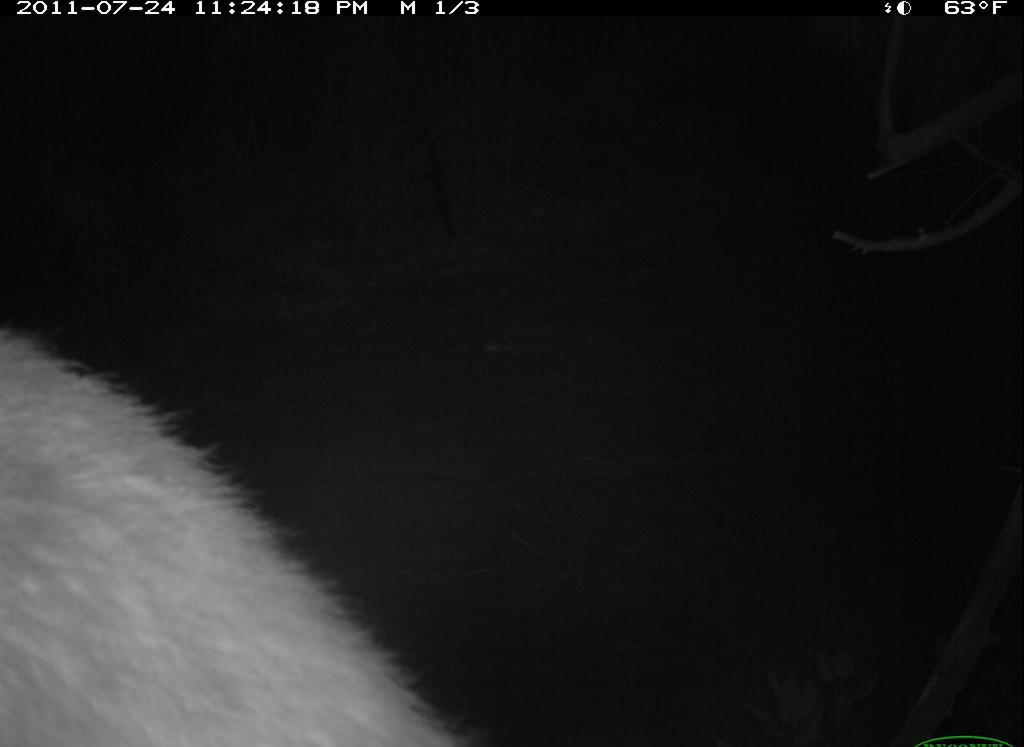raccoon: (1, 321, 472, 747)
